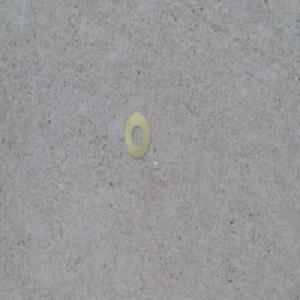Washer: (124, 109, 150, 161)
